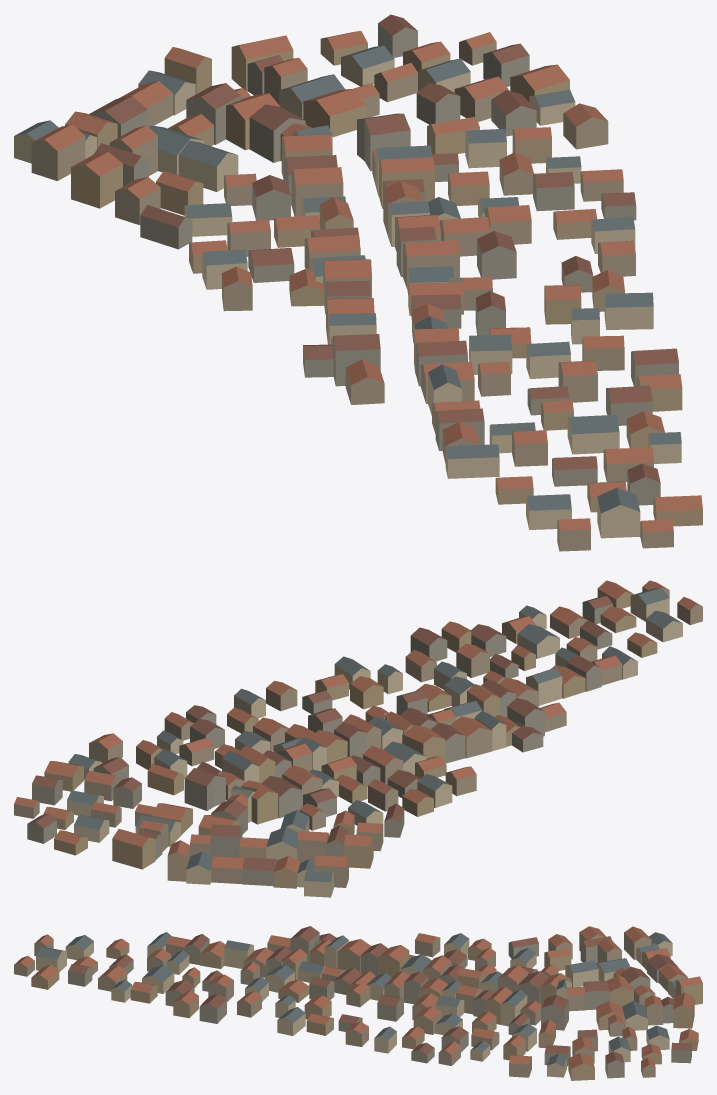
3 renders of one model, top to bottom at view 1: azimuth 30°, elevation 25°; view 2: azimuth 150°, elevation 25°; view 3: azimuth 270°, elevation 25°, orthographic. The views are drawn at different scales.
Parts seen in each view (by area): view 1: C_1_-2; view 2: C_1_-2; view 3: C_1_-2.
Part boxes in pixels (bbox=[...]): C_1_-2: bbox=[14, 14, 702, 551]; C_1_-2: bbox=[14, 580, 702, 897]; C_1_-2: bbox=[14, 926, 702, 1080].
Bounding box in the file's own units: 162 × 14.21 × 348.
